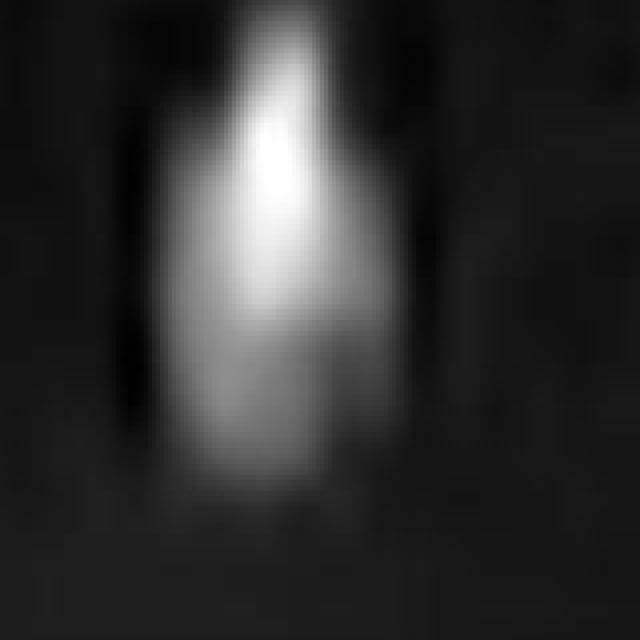person: (141, 1, 409, 540)
